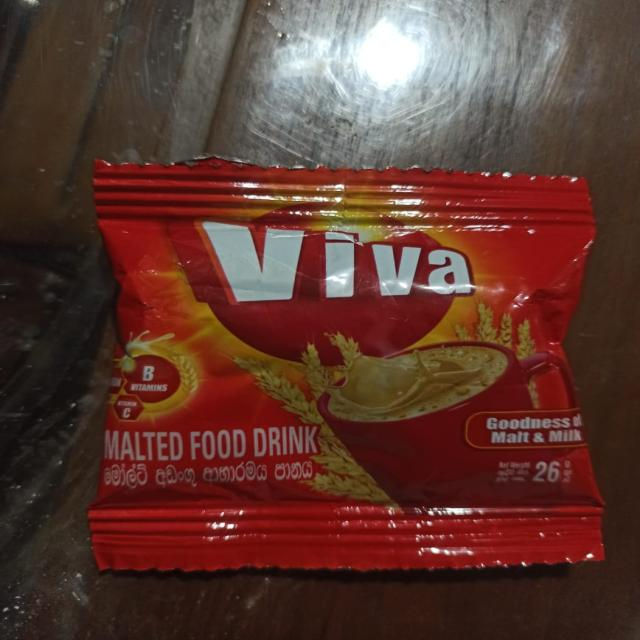Viva Malt: (68, 142, 640, 623)
